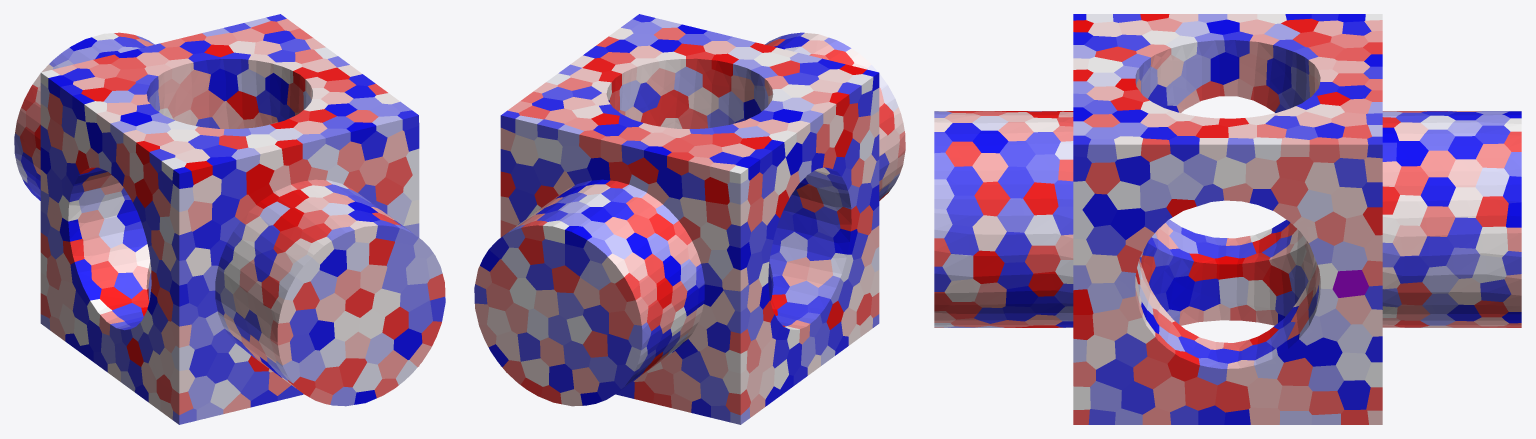
The model's file is Ours_1000_block_Iter21_RVD.obj.
3 renders of one model, left to right at view 1: azimuth 30°, elevation 25°; view 2: azimuth 150°, elevation 25°; view 3: azimuth 270°, elevation 25°, orthographic. The views are drawn at different scales.
Parts seen in each view (by area): view 1: 3D_Object; view 2: 3D_Object; view 3: 3D_Object.
Part boxes in pixels (x1,y1,x2,y2): 3D_Object: (14,14,445,424); 3D_Object: (474,14,905,424); 3D_Object: (934,14,1521,424).
Size of the model in its own units: 20 by 20 by 38.
Materials: 1 (1 with a texture image).
